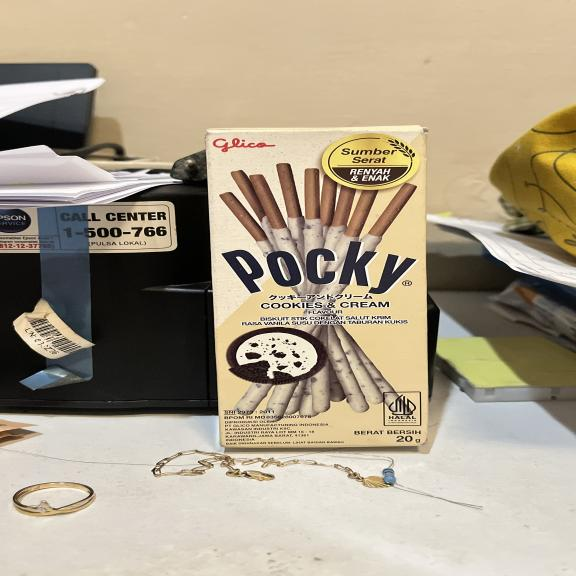Kertas: (208, 129, 429, 450)
